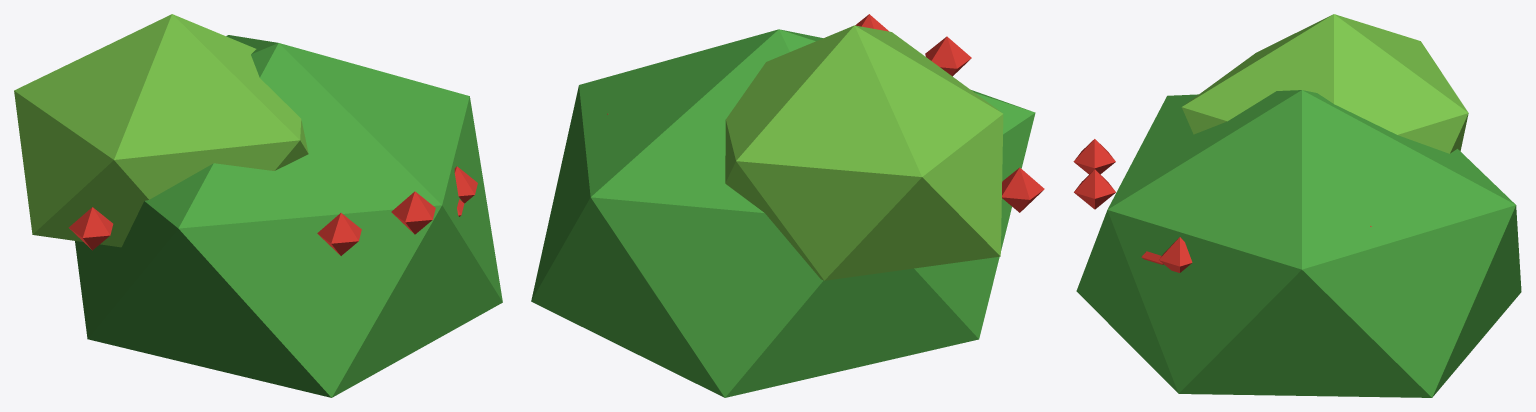
Rendered from Bush_Berry.fbx.
3 views of the same model, side by side, from view 1: azimuth 30°, elevation 25°; view 2: azimuth 150°, elevation 25°; view 3: azimuth 270°, elevation 25° (orthographic). The views are drawn at different scales.
Visible parts, largest first — view 1: Bush_Berry; view 2: Bush_Berry; view 3: Bush_Berry.
Boxes of the visible parts, bbox=[...] form: Bush_Berry: bbox=[14, 14, 502, 397]; Bush_Berry: bbox=[531, 14, 1044, 397]; Bush_Berry: bbox=[1073, 14, 1521, 397].
Bounding box in the file's own units: 1.41 × 0.9234 × 1.4.
